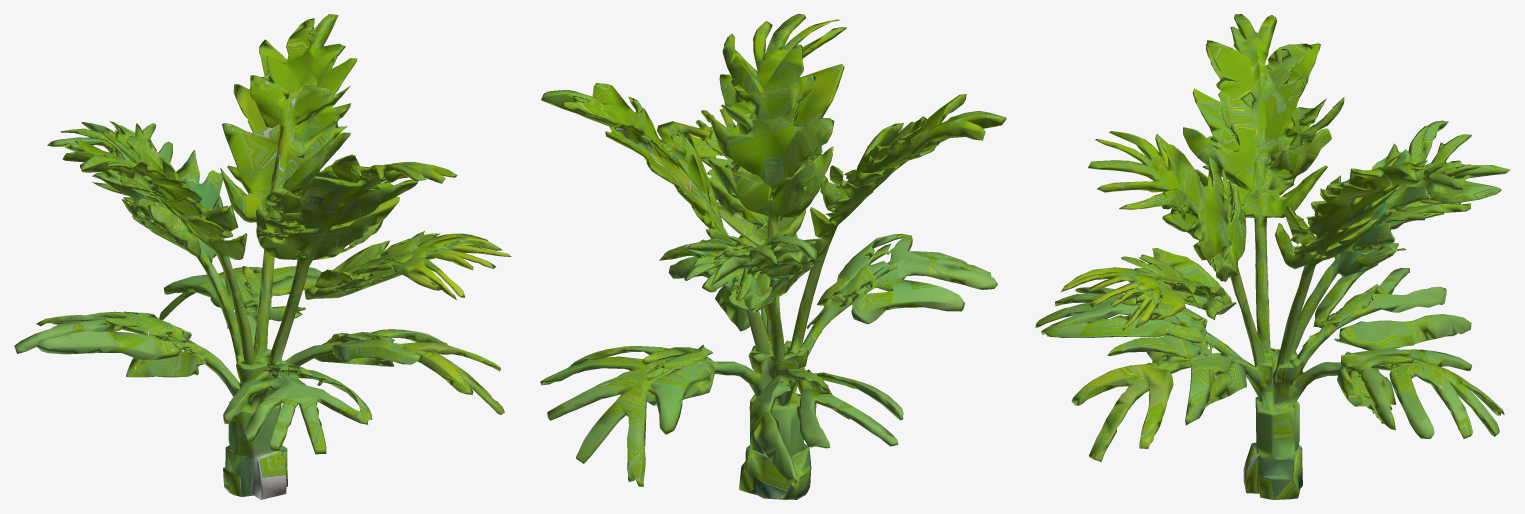
Rendered from palm.glb.
3 views of the same model, side by side, from view 1: azimuth 30°, elevation 25°; view 2: azimuth 150°, elevation 25°; view 3: azimuth 270°, elevation 25° (orthographic). The views are drawn at different scales.
Bounding box in the file's own units: 0.8975 × 0.892 × 0.9982.
Materials: 1 (1 with a texture image).
